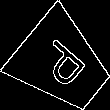P_SE: (32, 34, 93, 95)
